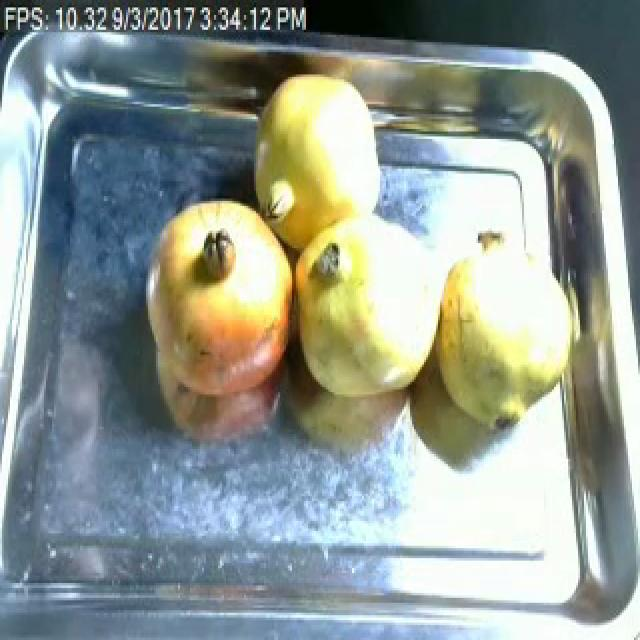fruit: (130, 189, 306, 419), (430, 226, 584, 439), (288, 203, 440, 412), (242, 64, 394, 250)
